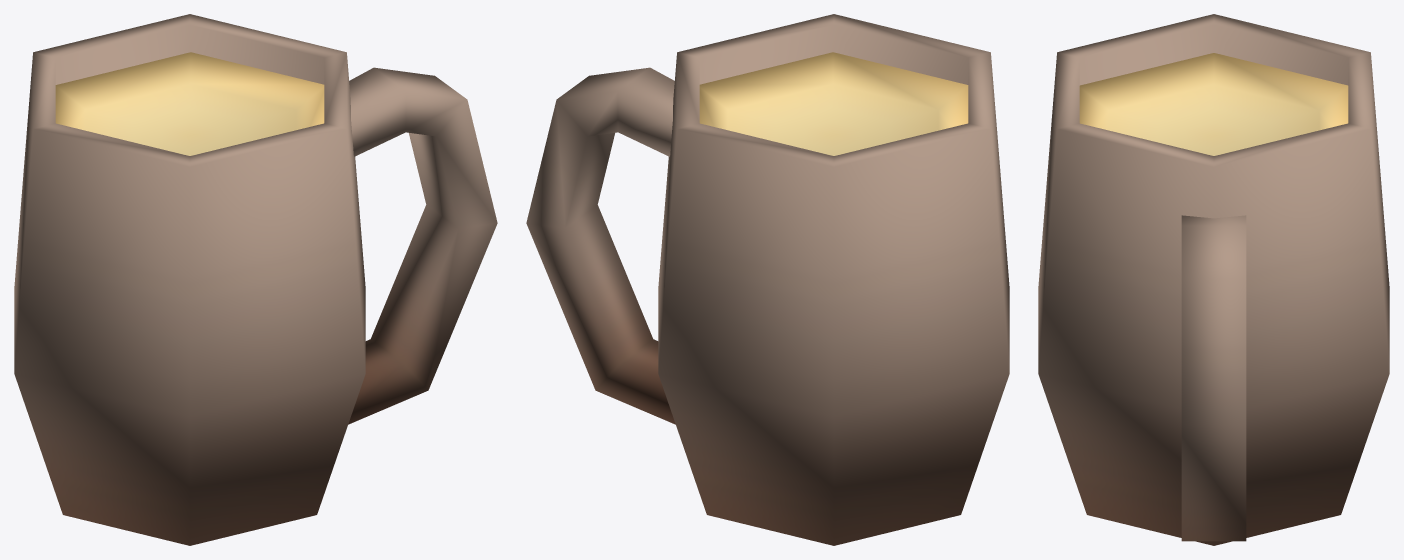
The model's file is Beer.FBX.
3 views of the same model, side by side, from view 1: azimuth 30°, elevation 25°; view 2: azimuth 150°, elevation 25°; view 3: azimuth 270°, elevation 25° (orthographic).
Visible parts, largest first — view 1: Beer; view 2: Beer; view 3: Beer.
Boxes of the visible parts, x1=… form: Beer: x1=14, y1=14, x2=497, y2=545; Beer: x1=526, y1=14, x2=1009, y2=545; Beer: x1=1038, y1=14, x2=1389, y2=545.
Size of the model in its own units: 49.85 by 40.12 by 32.47.
